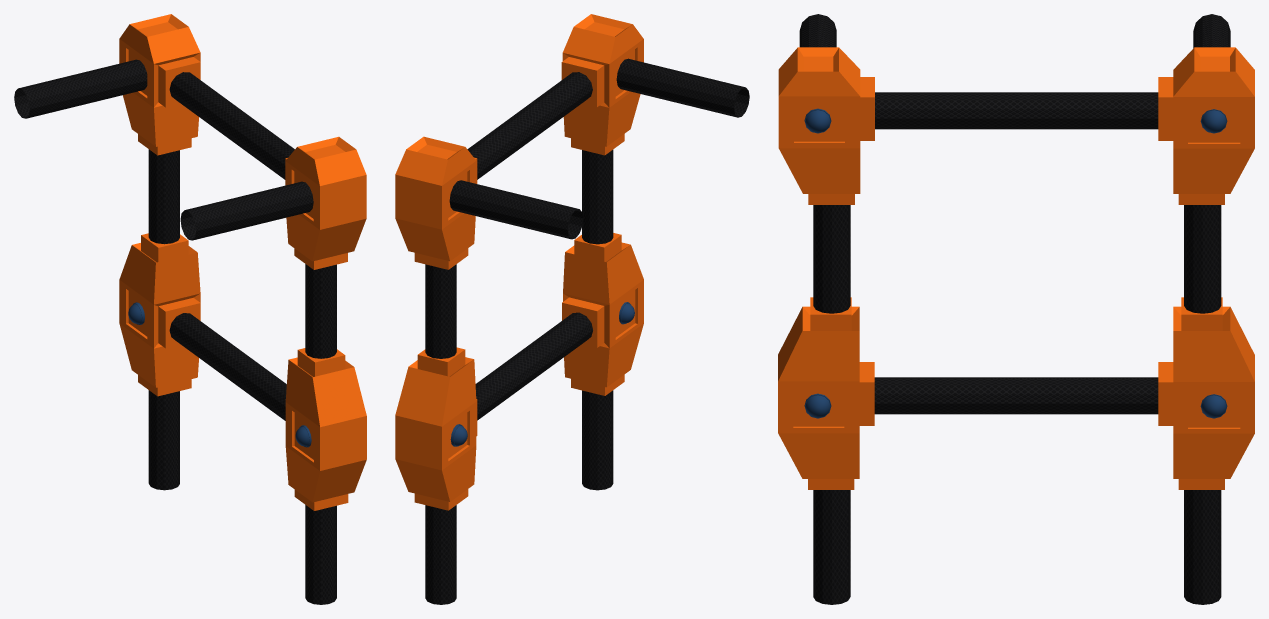
The model's file is Top Ladder.fbx.
3 views of the same model, side by side, from view 1: azimuth 30°, elevation 25°; view 2: azimuth 150°, elevation 25°; view 3: azimuth 270°, elevation 25° (orthographic). The views are drawn at different scales.
Visible parts, largest first — view 1: pCube28; view 2: pCube28; view 3: pCube28.
Boxes of the visible parts, x1=… form: pCube28: x1=14, y1=14, x2=366, y2=604; pCube28: x1=395, y1=14, x2=749, y2=604; pCube28: x1=778, y1=14, x2=1254, y2=604.
Size of the model in its own units: 0.6659 by 1.73 by 1.39.
1 material, 1 textured.
